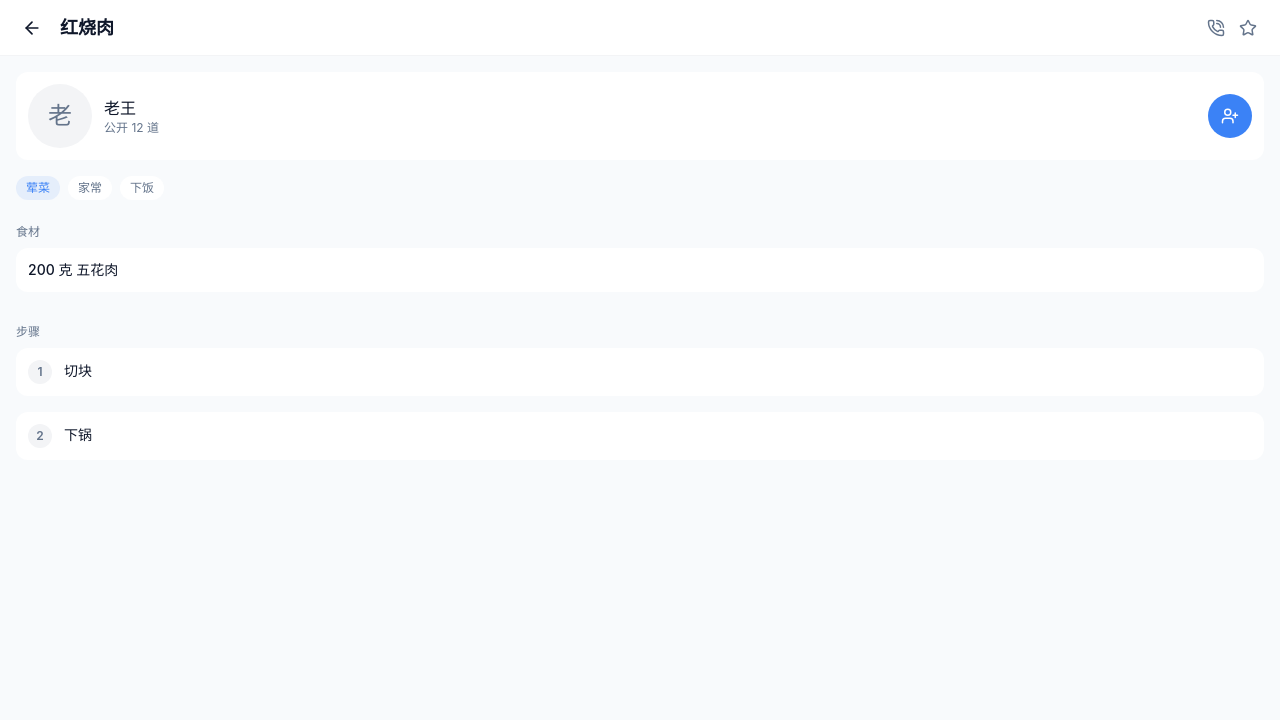
Test: RecipeDetail › 关注失败时按钮翻回原状并提示，不静默
The width and height of the screenshot is (1280, 720).
Click the button with test id "recipe-author-follow" at (1230, 116), box [1208, 94, 1252, 138]
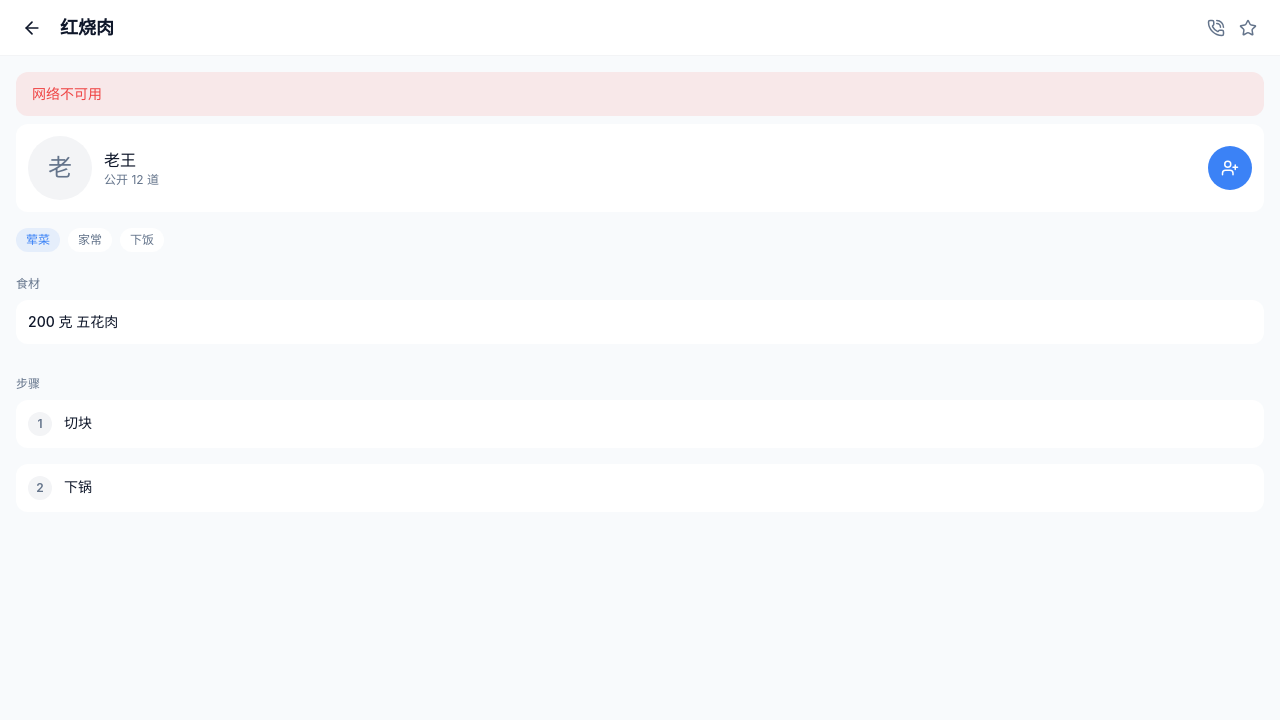
Expected: the text with test id "author-follow-error" reads "网络不可用", [32, 85, 102, 102]
